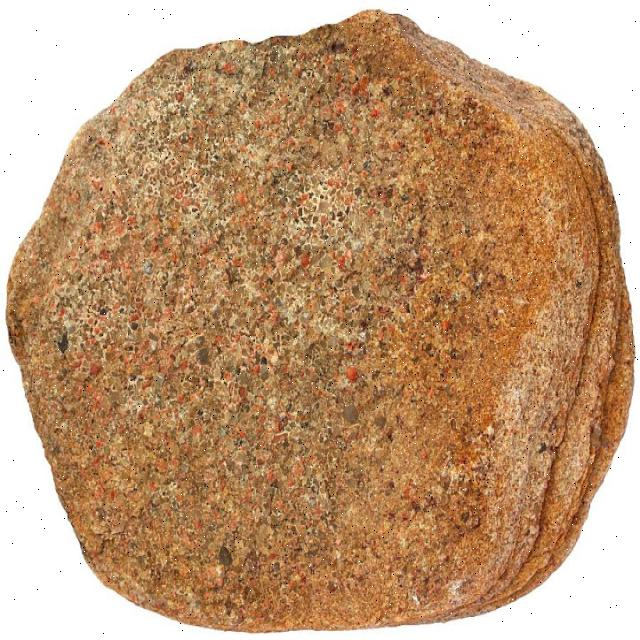Sedimentary: (7, 12, 634, 630)
